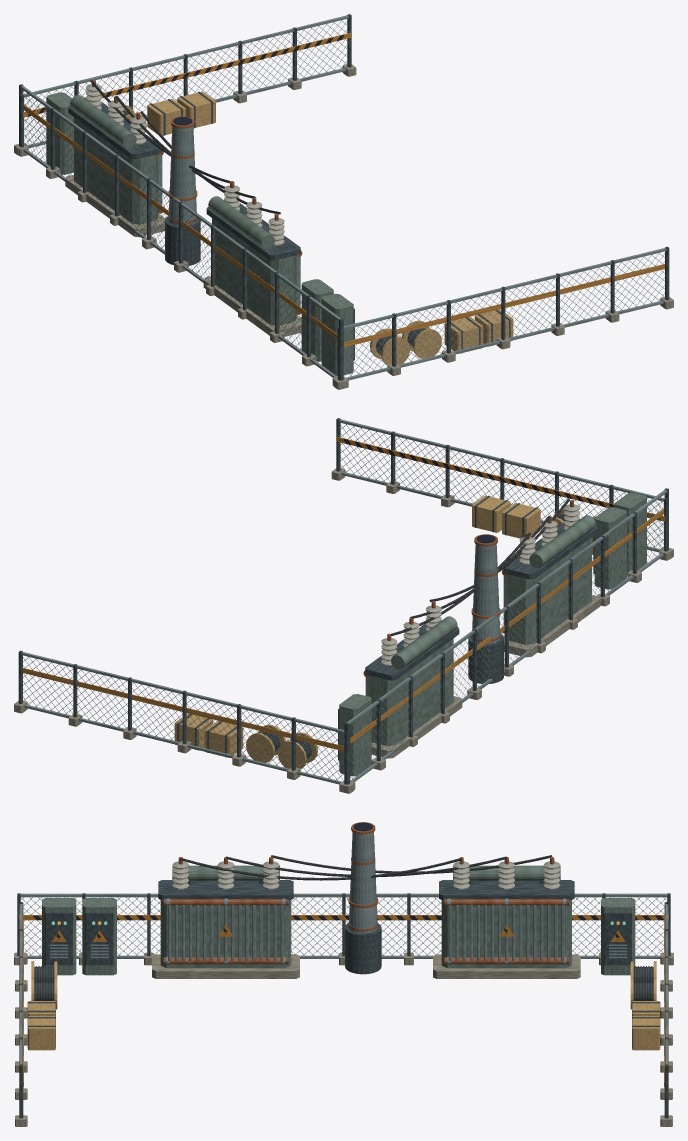
The model's file is ap_foso_lagarto.glb.
The picture shows the model from 3 angles, top to bottom: view 1: azimuth 30°, elevation 25°; view 2: azimuth 150°, elevation 25°; view 3: azimuth 270°, elevation 25°; orthographic projection.
Parts seen in each view (by area): view 1: ap_foso_lagarto; view 2: ap_foso_lagarto; view 3: ap_foso_lagarto.
Boxes of the visible parts, left/top/right/bottom form: ap_foso_lagarto: left=14, top=14, right=673, bottom=389; ap_foso_lagarto: left=14, top=418, right=673, bottom=793; ap_foso_lagarto: left=14, top=822, right=673, bottom=1126.
Size of the model in its own units: 11.88 by 4.7 by 19.86.
Materials: 2 (2 with a texture image).
